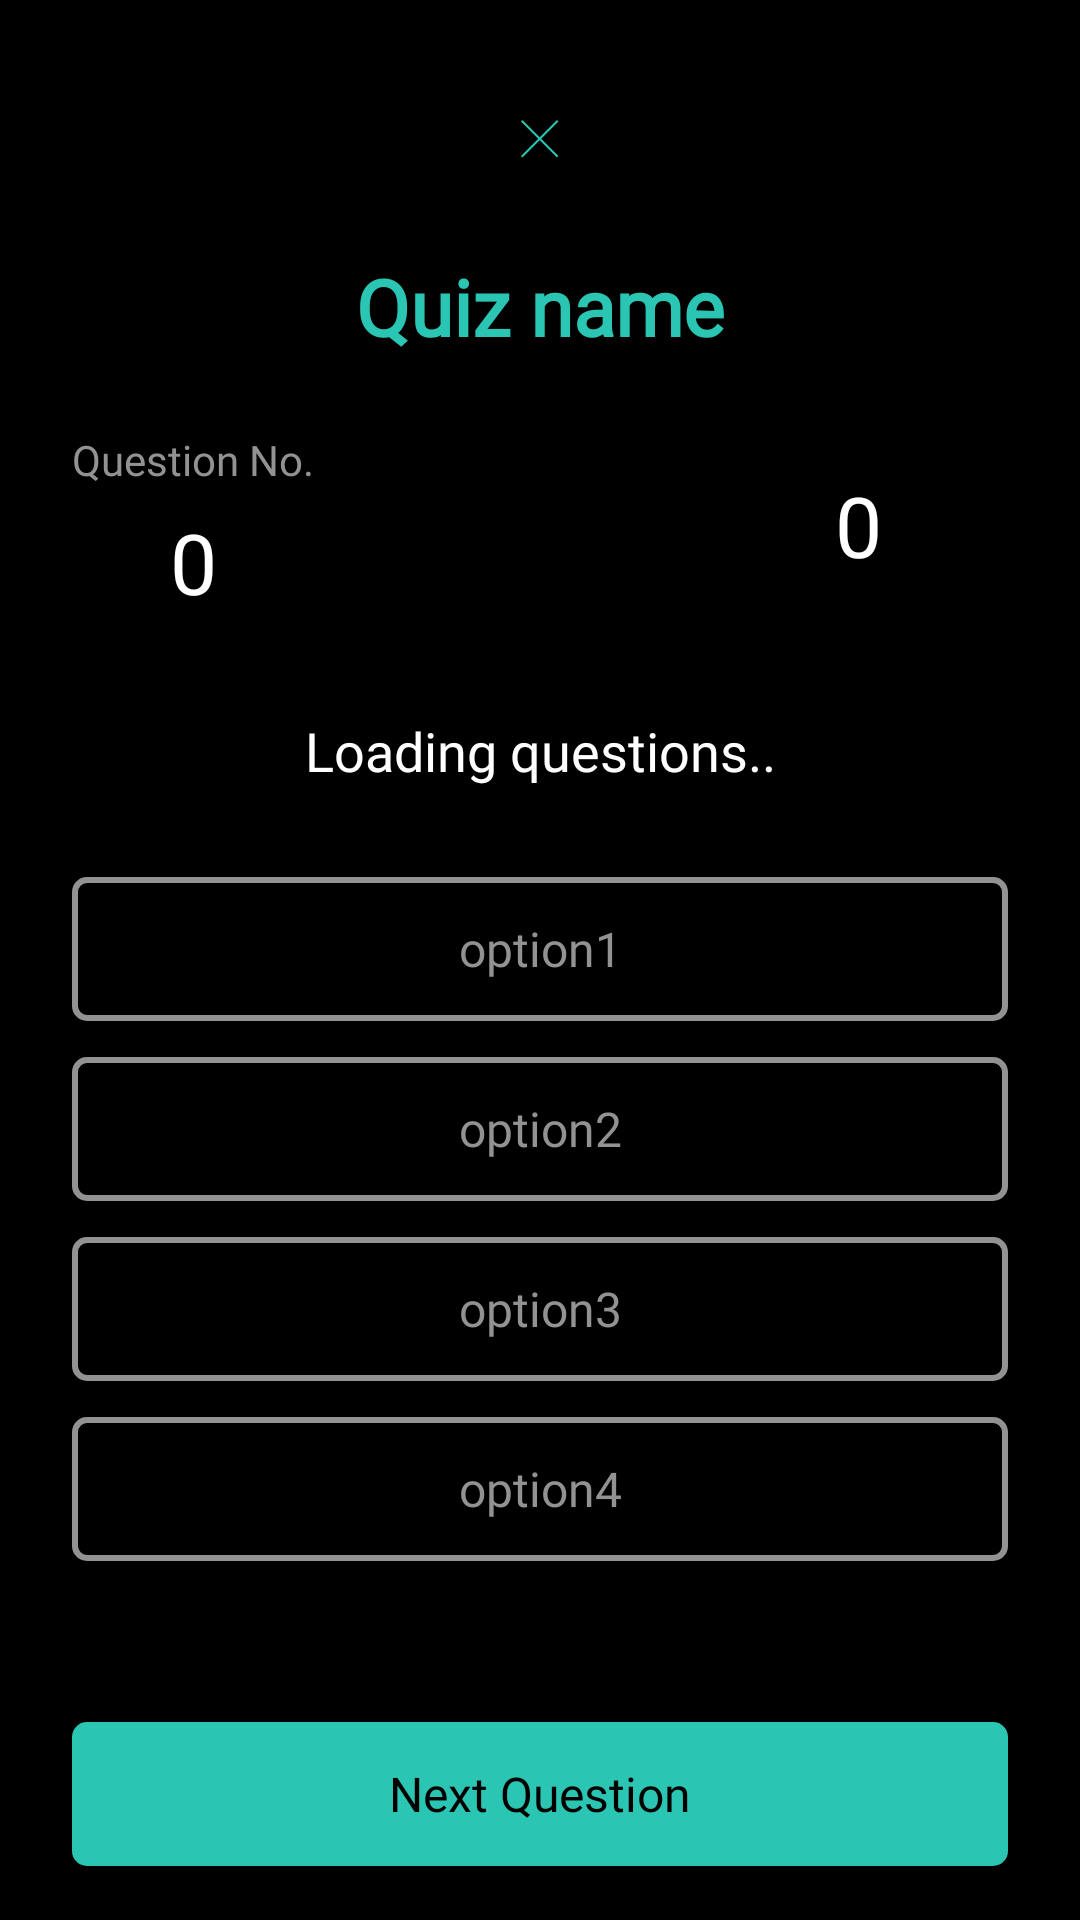

Locate icon controls on the screen. Image size 1080x1920, boxes as (x1, y1, x2, y2).
quiz close: (521, 120, 559, 158)
